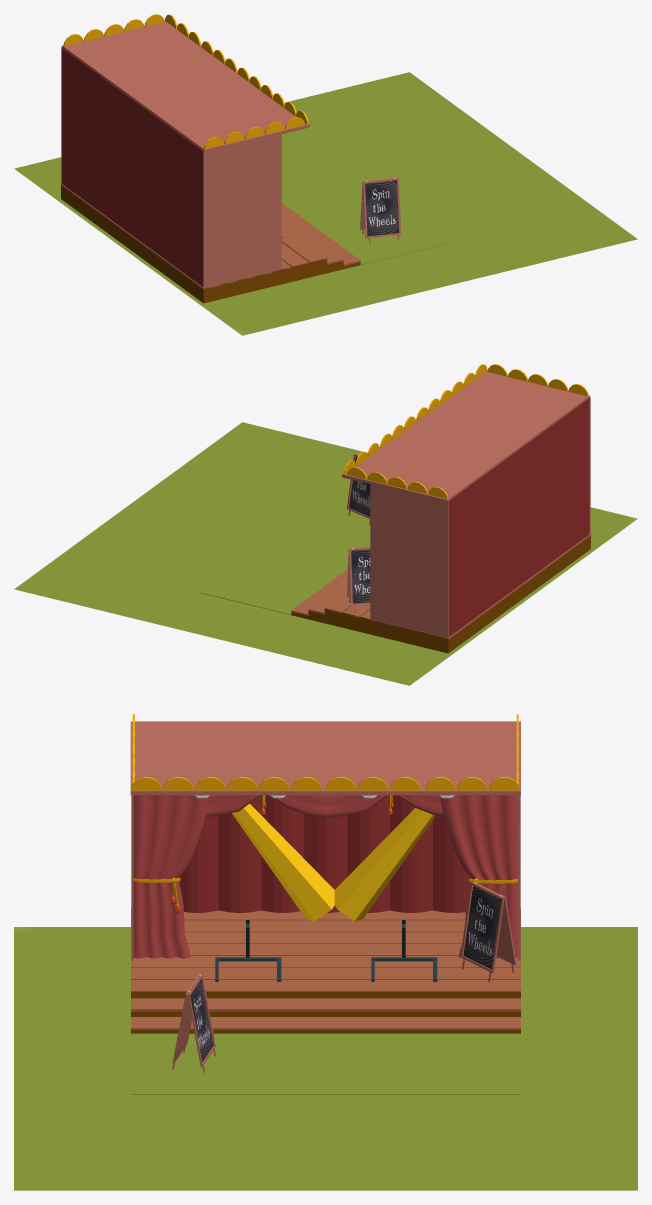
The model's file is Theatre.glb.
3 views of the same model, one above another, from view 1: azimuth 30°, elevation 25°; view 2: azimuth 150°, elevation 25°; view 3: azimuth 270°, elevation 25° (orthographic). The views are drawn at different scales.
Parts seen in each view (by area): view 1: Plane, Cube.001, Cube.012, Cube.006, Cube.008, Cube.003; view 2: Plane, Cube.001, Cube.012, Cube.006, Cube.008, Cube.007, Cube.003; view 3: Plane, Cube.012, Cube.006, Cube.001, Cube.002, Cube.005, Cylinder.009, Cylinder.010, Cube.004, Cube.007, Plane.002, Cube.003 (+3 smaller).
Boxes of the visible parts, bbox=[...] form: Plane: bbox=[14, 72, 637, 335]; Cube.001: bbox=[62, 48, 202, 286]; Cube.012: bbox=[60, 138, 450, 303]; Cube.006: bbox=[62, 20, 309, 152]; Cube.008: bbox=[61, 47, 281, 287]; Cube.003: bbox=[360, 177, 401, 243]; Plane: bbox=[14, 422, 637, 685]; Cube.001: bbox=[449, 398, 589, 636]; Cube.012: bbox=[201, 488, 591, 653]; Cube.006: bbox=[342, 370, 589, 502]; Cube.008: bbox=[370, 397, 590, 637]; Cube.007: bbox=[347, 546, 370, 612]; Cube.003: bbox=[347, 453, 370, 524]; Plane: bbox=[14, 927, 637, 1190]; Cube.012: bbox=[131, 909, 520, 1094]; Cube.006: bbox=[130, 721, 520, 795]; Cube.001: bbox=[179, 795, 471, 912]; Cube.002: bbox=[440, 795, 517, 958]; Cube.005: bbox=[133, 795, 209, 879]; Cylinder.009: bbox=[232, 803, 334, 921]; Cylinder.010: bbox=[334, 808, 435, 921]; Cube.004: bbox=[133, 878, 191, 958]; Cube.007: bbox=[460, 881, 516, 982]; Plane.002: bbox=[205, 795, 443, 817]; Cube.003: bbox=[172, 974, 215, 1072].
Size of what is drawn, in the model's own units: 16 by 6.35 by 16.
Materials: 3 (3 with a texture image).
